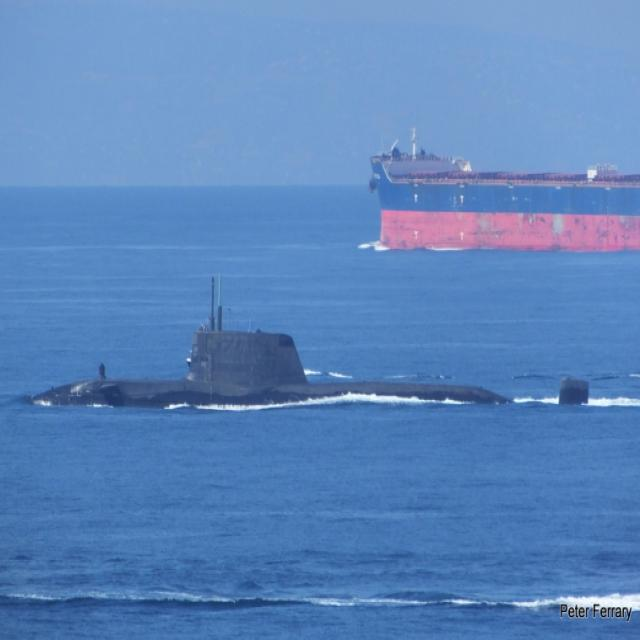submarine: (32, 308, 603, 411)
